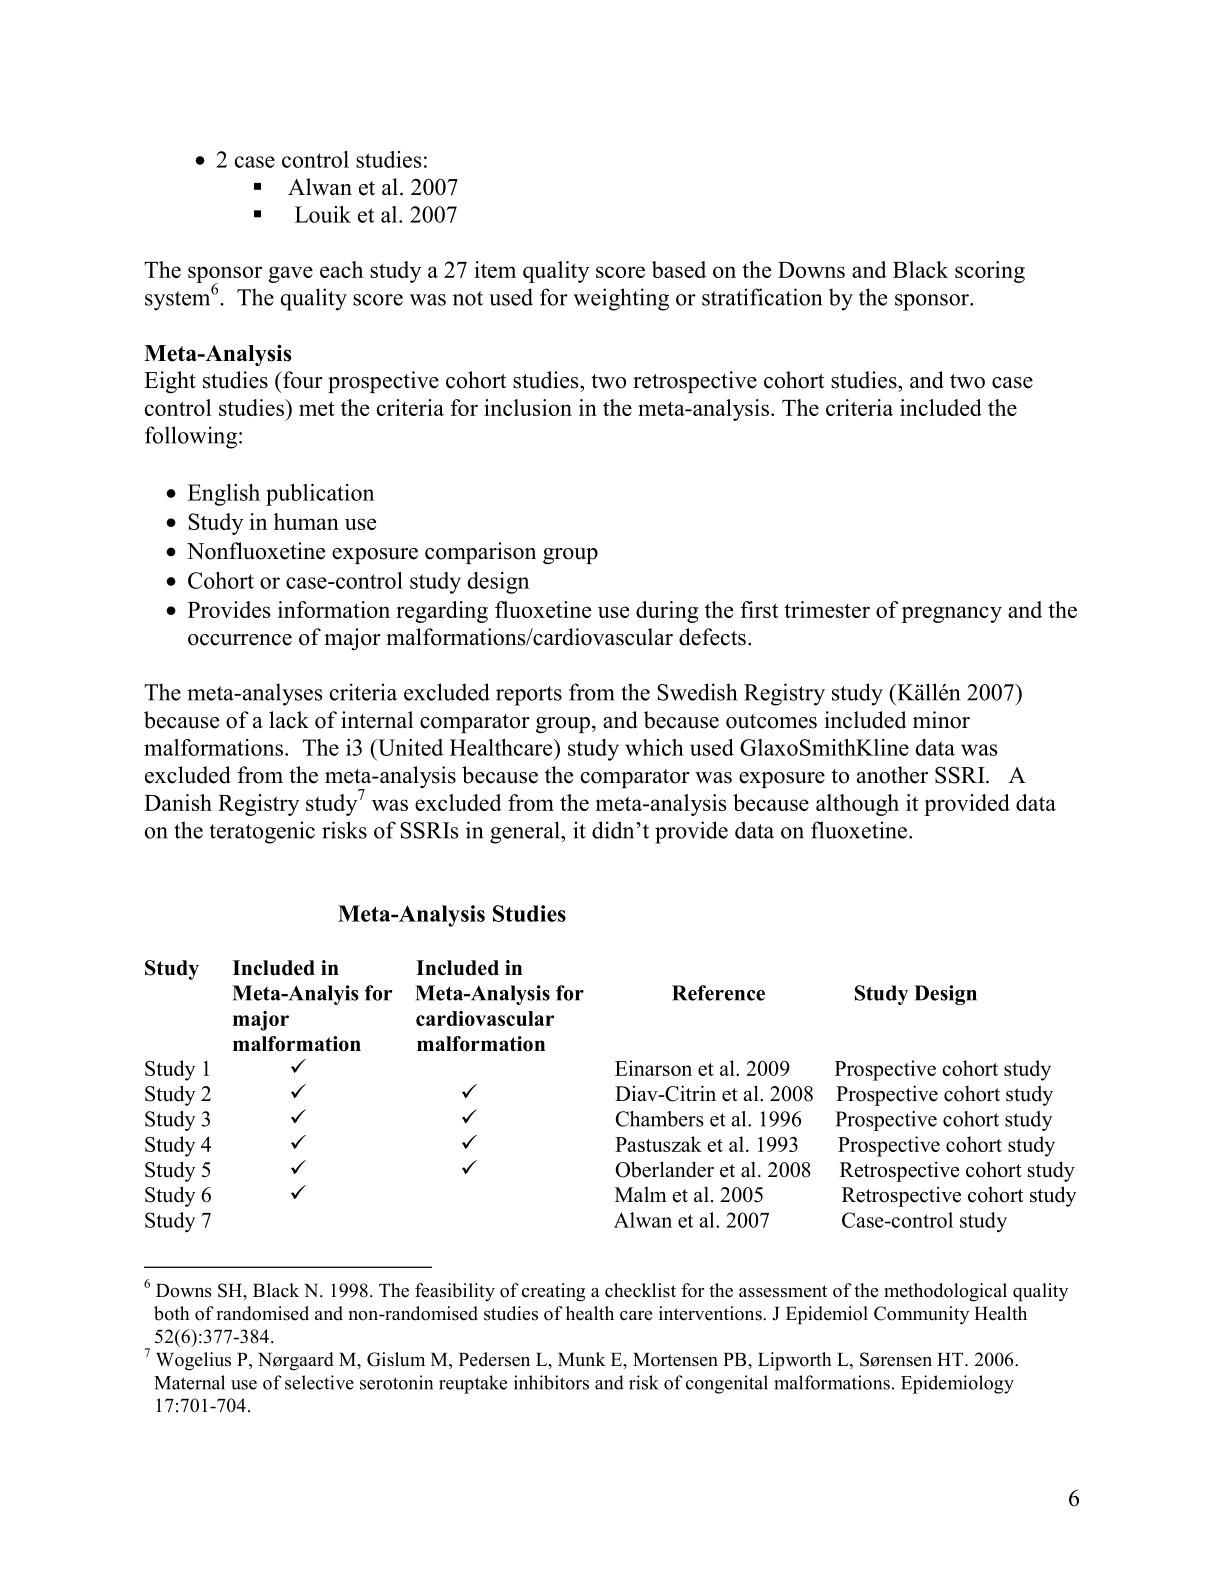nolines: (141, 955, 1077, 1236)
